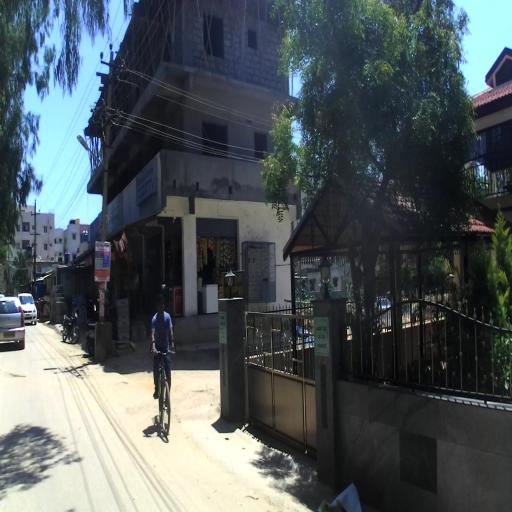street_light_0: (76, 134, 108, 186)
